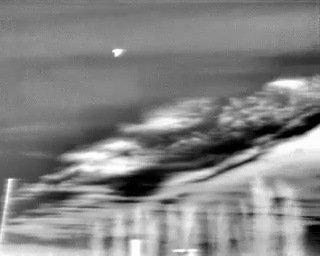BIRD: (109, 44, 129, 61)
